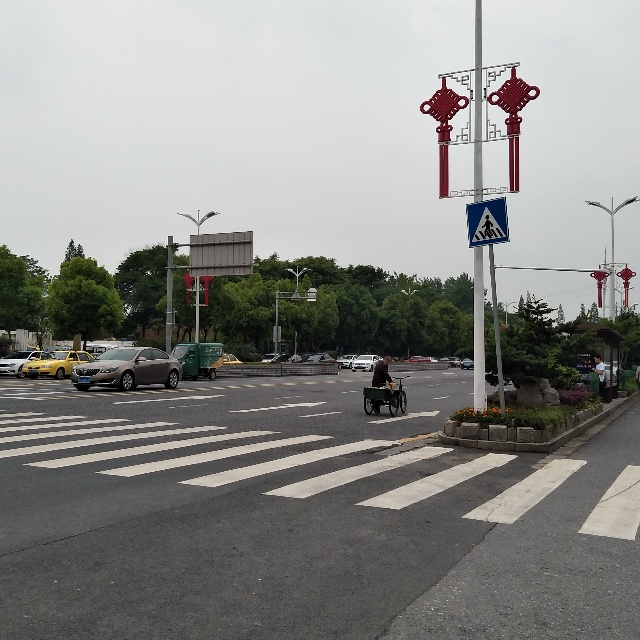crosswalk: (464, 207, 509, 240)
